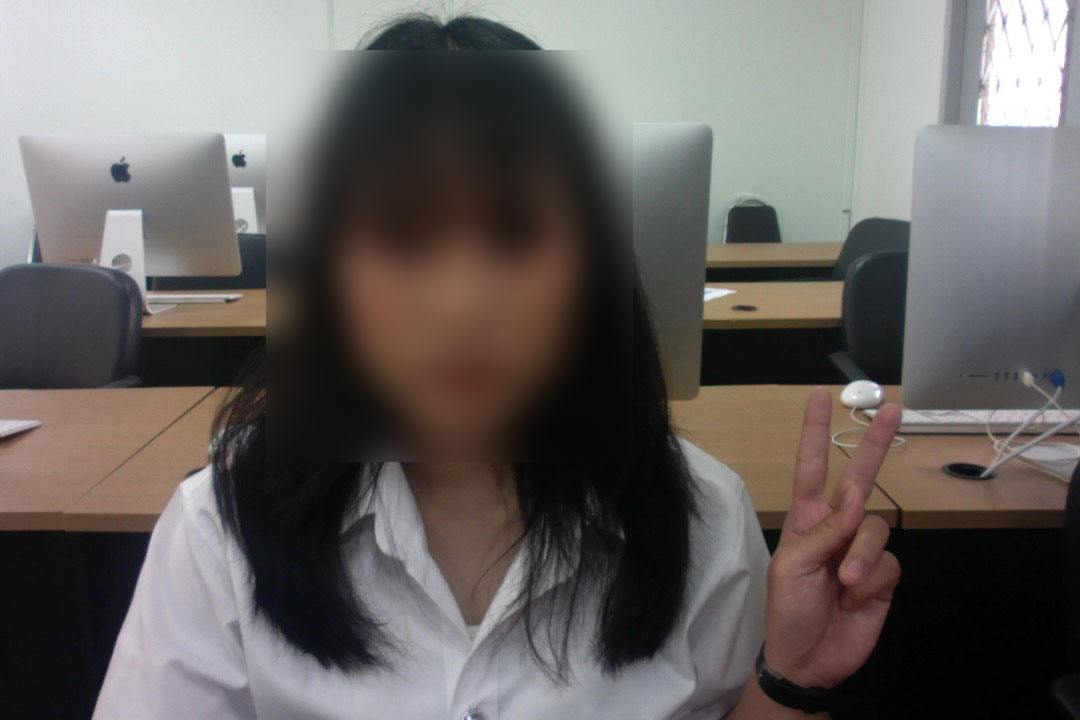ko: (760, 357, 910, 700)
